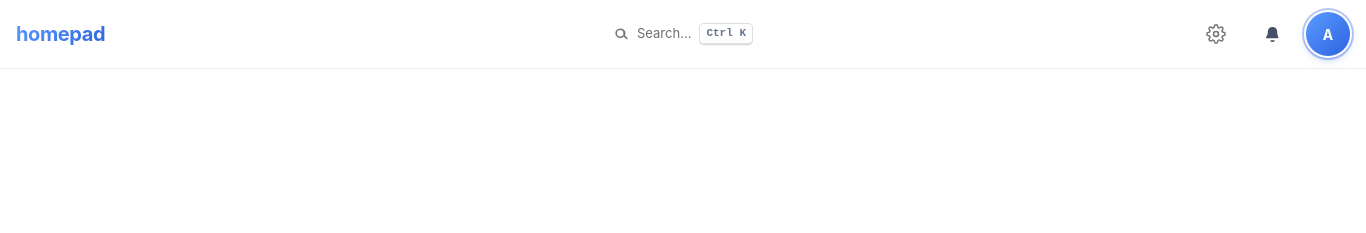
Test: gear menu — "Arrange apps" (AC-007..AC-011) › TC-006 (v29 AC-005) — a non-admin sees BOTH Add apps and Arrange apps
This screenshot has width=1366, height=233.
Click the button with test id "settings-gear".
click(1216, 34)  # box [1194,12,1238,56]
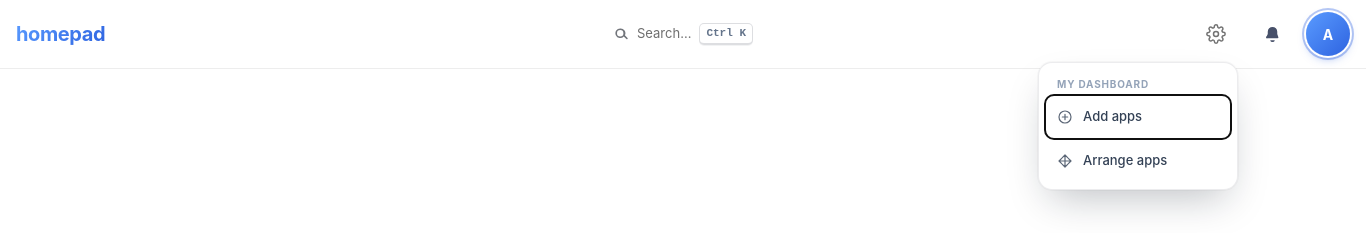
Check: the menu item with test id "gear-add-apps" is shown, box [1045,95,1231,139]
Check: the menu item with test id "gear-edit-dashboard" is shown, box [1045,139,1231,183]
